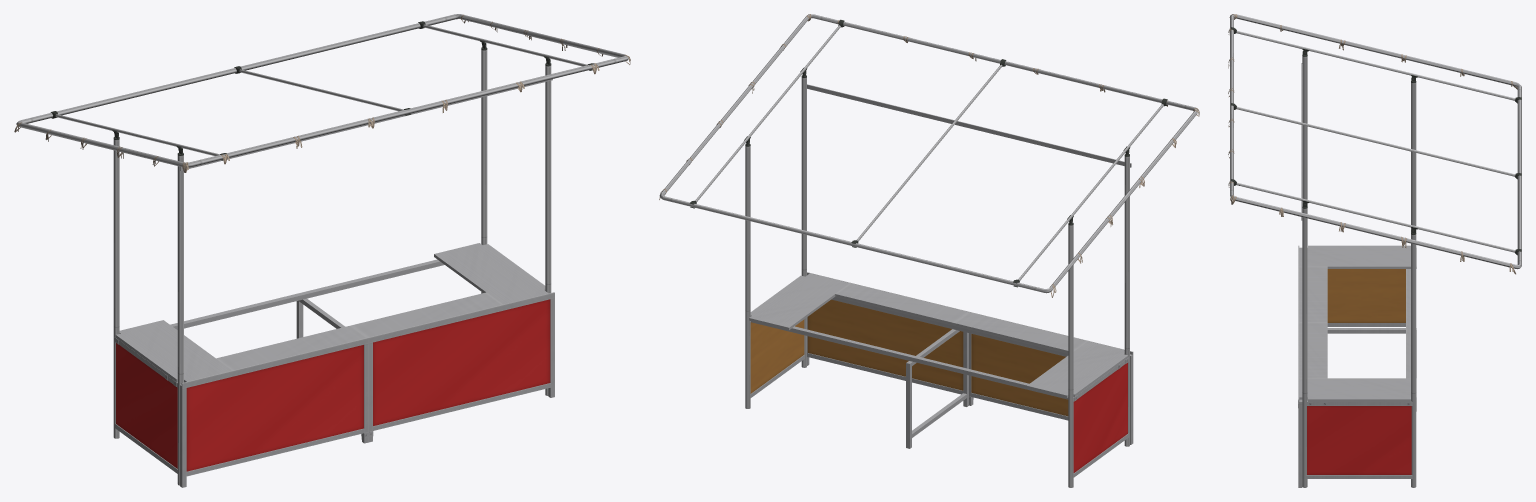
The model's file is jsf_4P_s03_c06_t04.fbx.
3 views of the same model, side by side, from view 1: azimuth 30°, elevation 25°; view 2: azimuth 150°, elevation 25°; view 3: azimuth 270°, elevation 25° (orthographic). The views are drawn at different scales.
Parts seen in each view (by area): view 1: Base_s03_c06, Pillar4_s03, Table_4P_s03_t04, Rope_4P_s03, Support; view 2: Base_s03_c06, Pillar4_s03, Table_4P_s03_t04, Support; view 3: Base_s03_c06, Pillar4_s03, Table_4P_s03_t04, Support, Rope_4P_s03.
Boxes of the visible parts, bbox=[...] form: Base_s03_c06: bbox=[114, 292, 554, 487]; Pillar4_s03: bbox=[16, 14, 628, 485]; Table_4P_s03_t04: bbox=[115, 243, 548, 386]; Rope_4P_s03: bbox=[14, 14, 630, 172]; Support: bbox=[296, 298, 361, 439]; Base_s03_c06: bbox=[750, 272, 1133, 477]; Pillar4_s03: bbox=[659, 14, 1198, 487]; Table_4P_s03_t04: bbox=[749, 273, 1128, 400]; Support: bbox=[906, 329, 968, 448]; Base_s03_c06: bbox=[1298, 245, 1412, 487]; Pillar4_s03: bbox=[1230, 14, 1521, 487]; Table_4P_s03_t04: bbox=[1299, 245, 1416, 405]; Support: bbox=[1327, 328, 1416, 411]; Rope_4P_s03: bbox=[1228, 14, 1517, 274].
Bounding box in the file's own units: 316 × 243 × 211.
